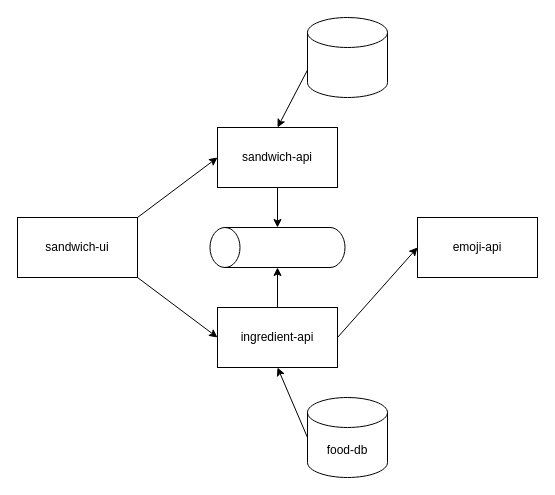
The diagram is 555 pixels wide and 495 high, and some of its shapes have lost their labels. The box of each missing label's shape, as (x1, y1, x2, y2) in pixels:
food-mq: (209, 226, 345, 268)
sandwich-db: (306, 16, 388, 98)
